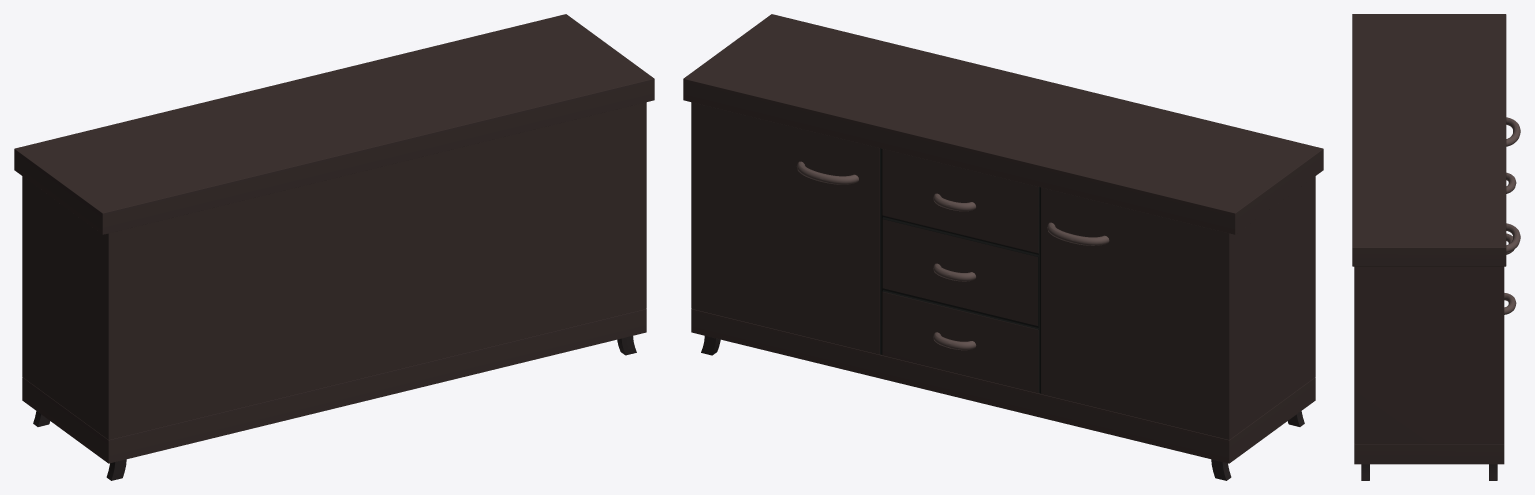
File: Kommode.fbx
3 renders of one model, left to right at view 1: azimuth 30°, elevation 25°; view 2: azimuth 150°, elevation 25°; view 3: azimuth 270°, elevation 25°, orthographic. The views are drawn at different scales.
Visible parts, largest first — view 1: Kommode; view 2: Kommode; view 3: Kommode.
Part boxes in pixels (x1,y1,x2,y2): Kommode: (14,14,654,480); Kommode: (683,14,1323,480); Kommode: (1352,14,1520,480).
Bounding box in the file's own units: 166 × 79.05 × 50.51.
